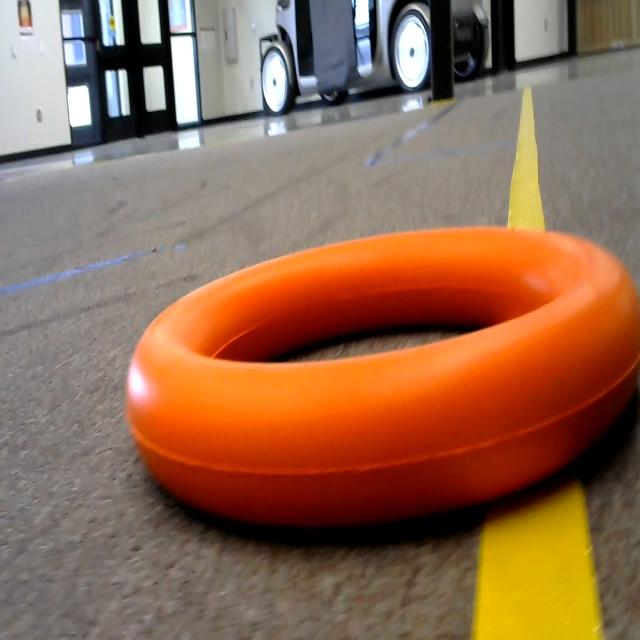note: (114, 235, 640, 538)
